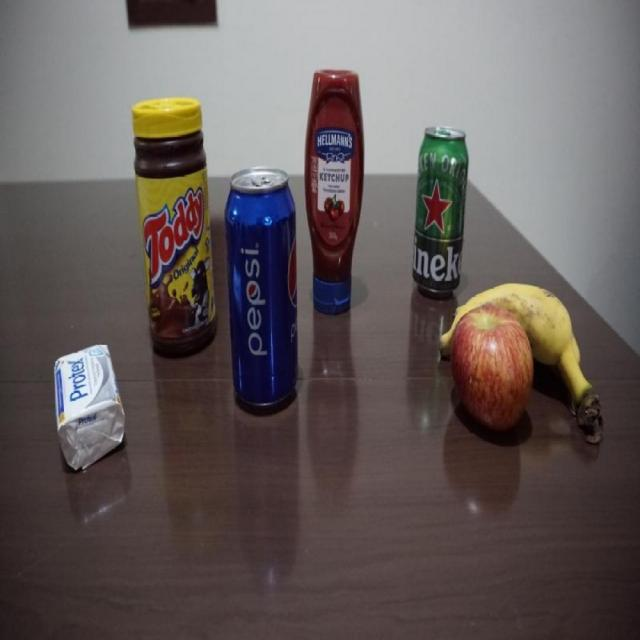Apple: (451, 301, 536, 443)
Banana: (533, 283, 606, 447)
BeerCan: (411, 122, 471, 299)
ChocolatePowder: (131, 93, 221, 358)
Ketchup: (304, 65, 366, 320)
Soap: (51, 342, 128, 476)
SodaCan: (224, 165, 300, 412)
